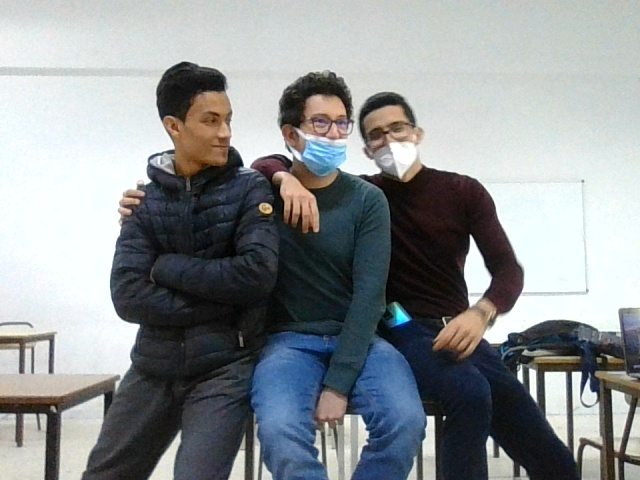mask_weared_incorrect: (271, 68, 362, 188), (365, 101, 431, 191)
without_mask: (136, 53, 244, 172)
